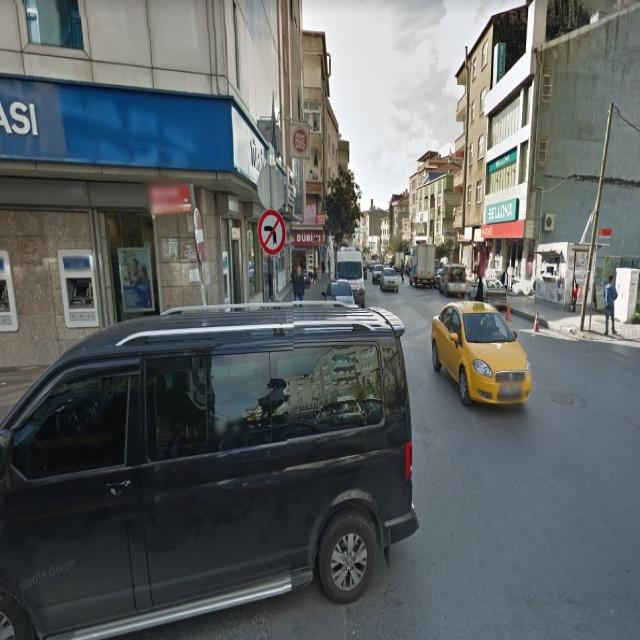girisyok: (192, 207, 206, 264)
soladonulmez: (258, 210, 286, 256)
